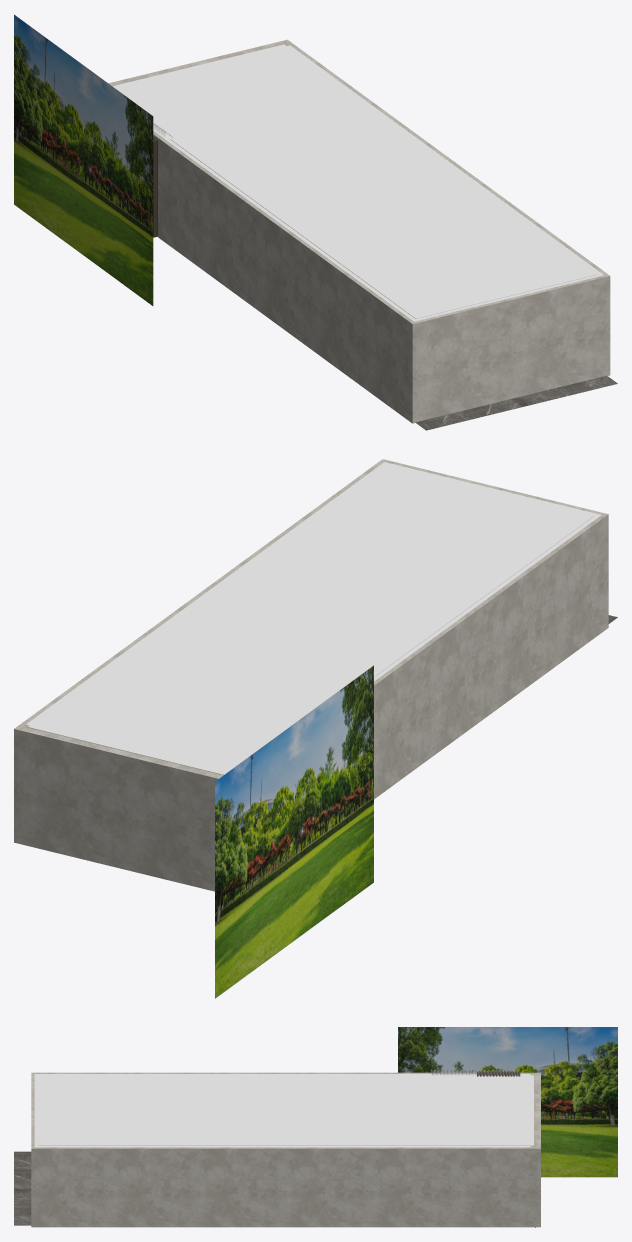
3 views of the same model, one above another, from view 1: azimuth 30°, elevation 25°; view 2: azimuth 150°, elevation 25°; view 3: azimuth 270°, elevation 25° (orthographic). The views are drawn at different scales.
Visible parts, largest first — view 1: Layer:3D_Roof, Layer:3D_Wall, Plane; view 2: Layer:3D_Roof, Layer:3D_Wall, Plane; view 3: Layer:3D_Wall, Layer:3D_Roof, Plane, Charming_Amber_076, Charming_Amber_075, Charming_Amber_073, Charming_Amber_074, Tulle_4000mm.
Boxes of the visible parts, x1,y1,x2,y2 form: Layer:3D_Roof: (112, 44, 603, 321); Layer:3D_Wall: (108, 39, 610, 423); Plane: (14, 14, 153, 305); Layer:3D_Roof: (26, 462, 601, 774); Layer:3D_Wall: (14, 459, 608, 891); Plane: (215, 665, 373, 998); Layer:3D_Wall: (31, 1072, 540, 1227); Layer:3D_Roof: (34, 1074, 533, 1147); Plane: (398, 1027, 617, 1177); Charming_Amber_076: (14, 1151, 31, 1170); Charming_Amber_075: (14, 1170, 31, 1188); Charming_Amber_073: (14, 1207, 31, 1225); Charming_Amber_074: (14, 1188, 31, 1206); Tulle_4000mm: (430, 1069, 519, 1074).
Size of the model in its own units: 7.05 by 5.7 by 20.77.
51 materials, 29 textured.
